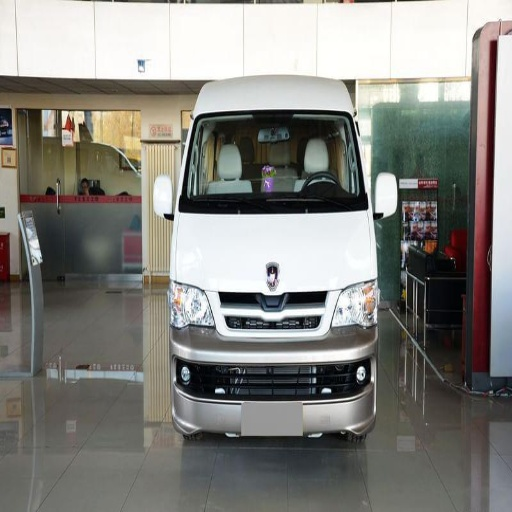front_bumper: (170, 256, 376, 435)
front_right_light: (169, 280, 213, 326)
hood: (178, 211, 373, 293)
